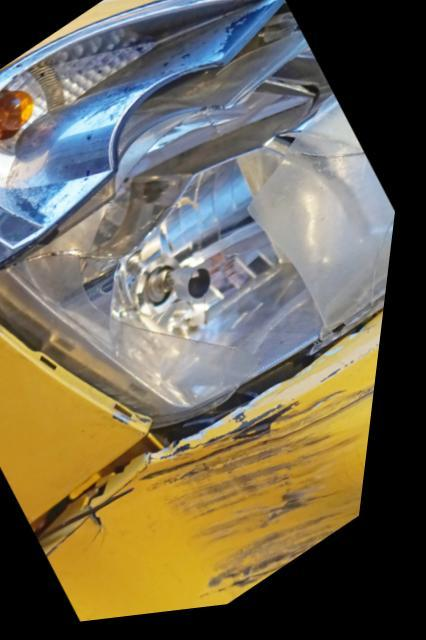dent: (63, 429, 379, 625)
dislocated part: (40, 431, 181, 572)
lamp broken: (0, 0, 402, 440)
scratch: (246, 377, 387, 437)
